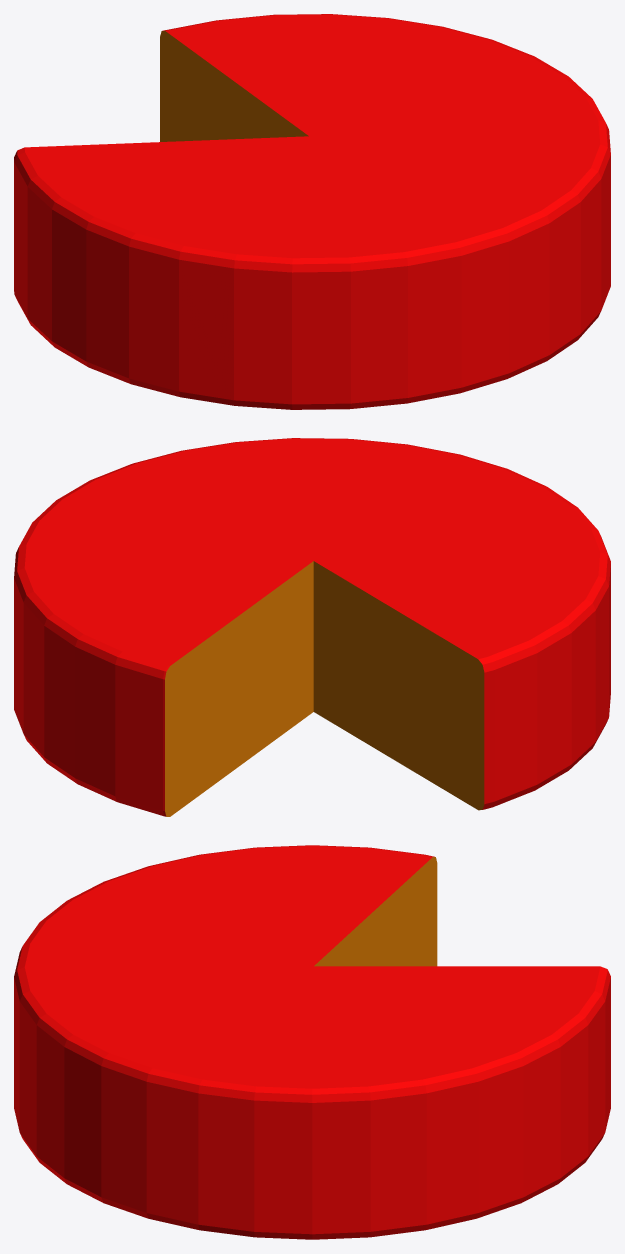
The model's file is cheese.fbx.
3 renders of one model, top to bottom at view 1: azimuth 30°, elevation 25°; view 2: azimuth 150°, elevation 25°; view 3: azimuth 270°, elevation 25°, orthographic.
Visible parts, largest first — view 1: Cylinder; view 2: Cylinder; view 3: Cylinder.
Boxes of the visible parts, box(x1,y1,x2,y2) form: Cylinder: box(14, 14, 610, 409); Cylinder: box(14, 438, 610, 816); Cylinder: box(14, 845, 610, 1239).
Size of the model in its own units: 112 by 31.18 by 112.
